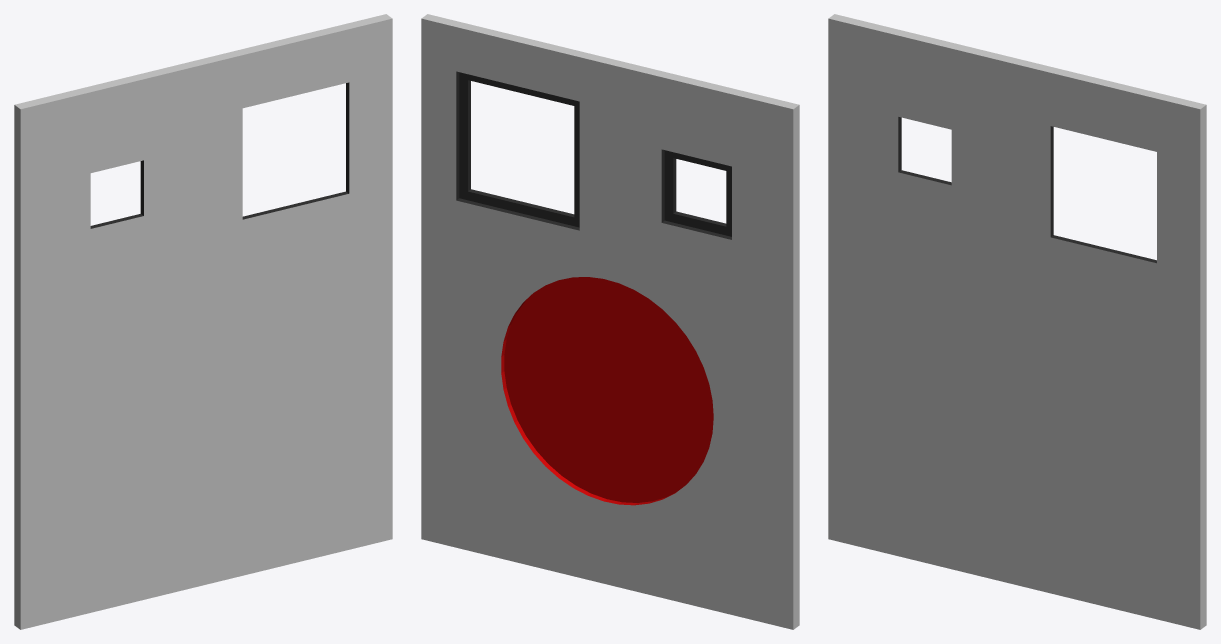
File: red_circle_target.dae
3 renders of one model, left to right at view 1: azimuth 30°, elevation 25°; view 2: azimuth 150°, elevation 25°; view 3: azimuth 330°, elevation 25°, orthographic.
Visible parts, largest first — view 1: ShapeIndexedFaceSet; view 2: ShapeIndexedFaceSet; view 3: ShapeIndexedFaceSet.
Boxes of the visible parts, left/top/right/bottom form: ShapeIndexedFaceSet: left=14, top=14, right=392, bottom=629; ShapeIndexedFaceSet: left=421, top=14, right=799, bottom=629; ShapeIndexedFaceSet: left=828, top=14, right=1206, bottom=629.
Size of the model in its own units: 1.75 by 0.0508 by 2.34.
